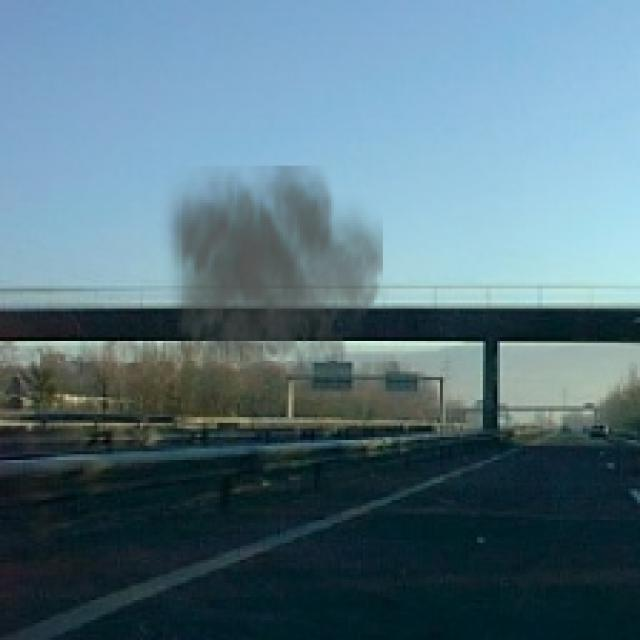Smoke: (157, 166, 383, 400)
